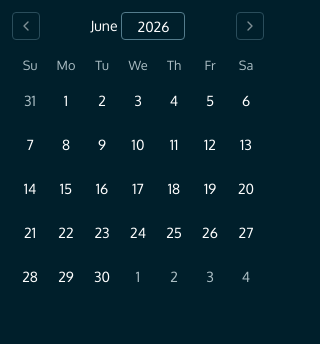
Test: Calendar › navigates to the previous and next month
Click the button named "next month": click(250, 26) [236,12,264,40]
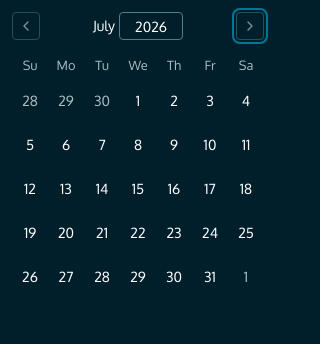
Now the text "July" is shown, box [93,16,115,36]
Click the button named "previous month": click(26, 26) [12,12,40,40]
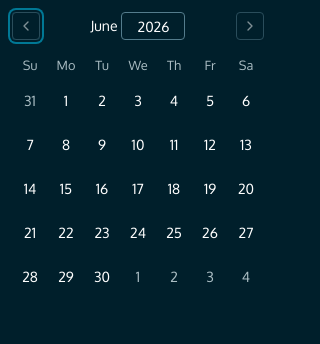
Click the button named "previous month": click(26, 26) [12,12,40,40]
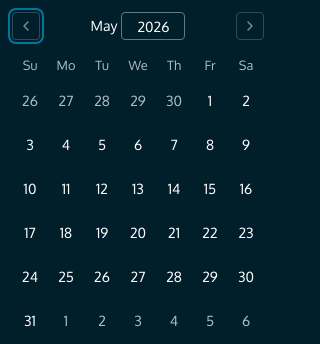
Now the text "May" is shown, box [90,16,117,36]
